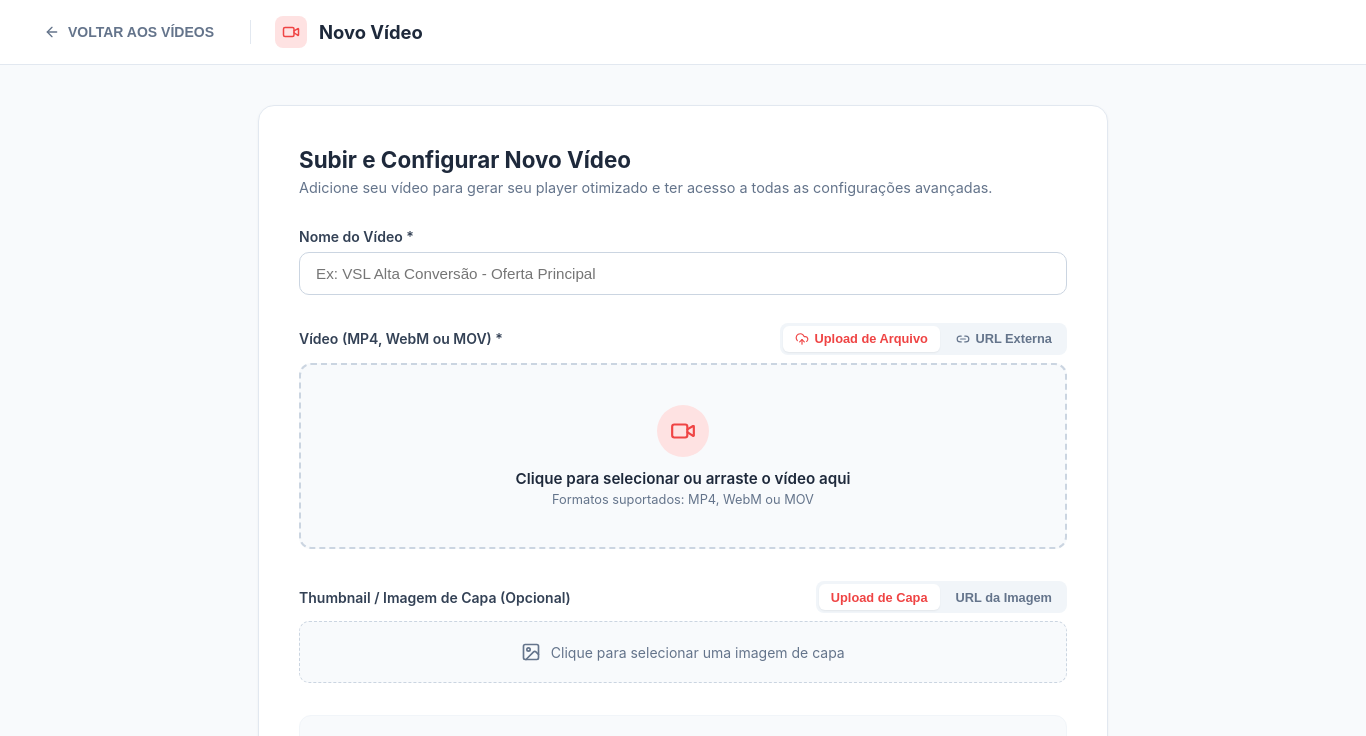
Test: VideoCreateView - Tela Cheia de Criação e Upload de Vídeo › permite alternar entre modo Upload e modo URL externa
Expected: the element with test id "create-video-dropzone" is shown, [299, 363, 1067, 549]
# Alterna para URL externa
Click the button with test id "create-video-mode-url" at (1004, 339), box [944, 326, 1064, 352]
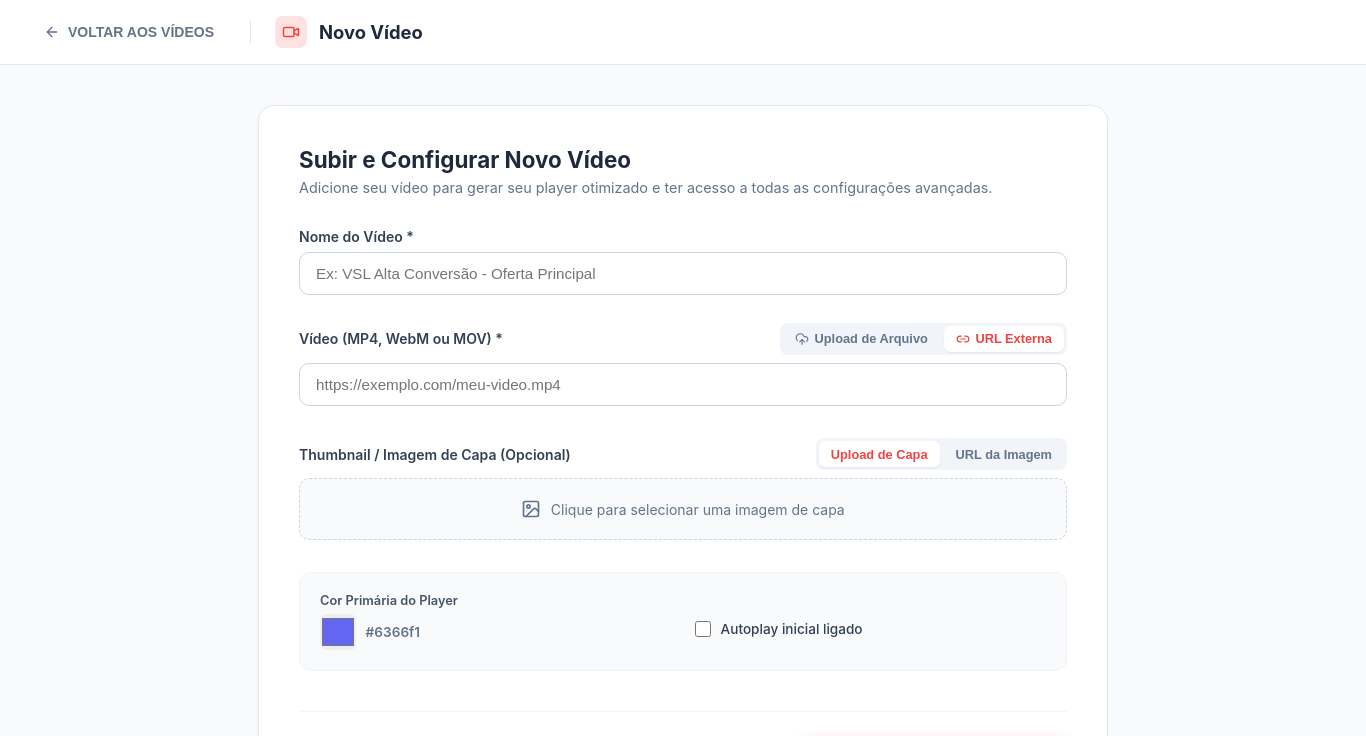
Expected: the field with test id "create-video-url-input" is shown, [299, 363, 1067, 406]
Expected: the element with test id "create-video-dropzone" is gone
# Alterna de volta para Upload
Click the button with test id "create-video-mode-upload" at (861, 339), box [783, 326, 940, 352]
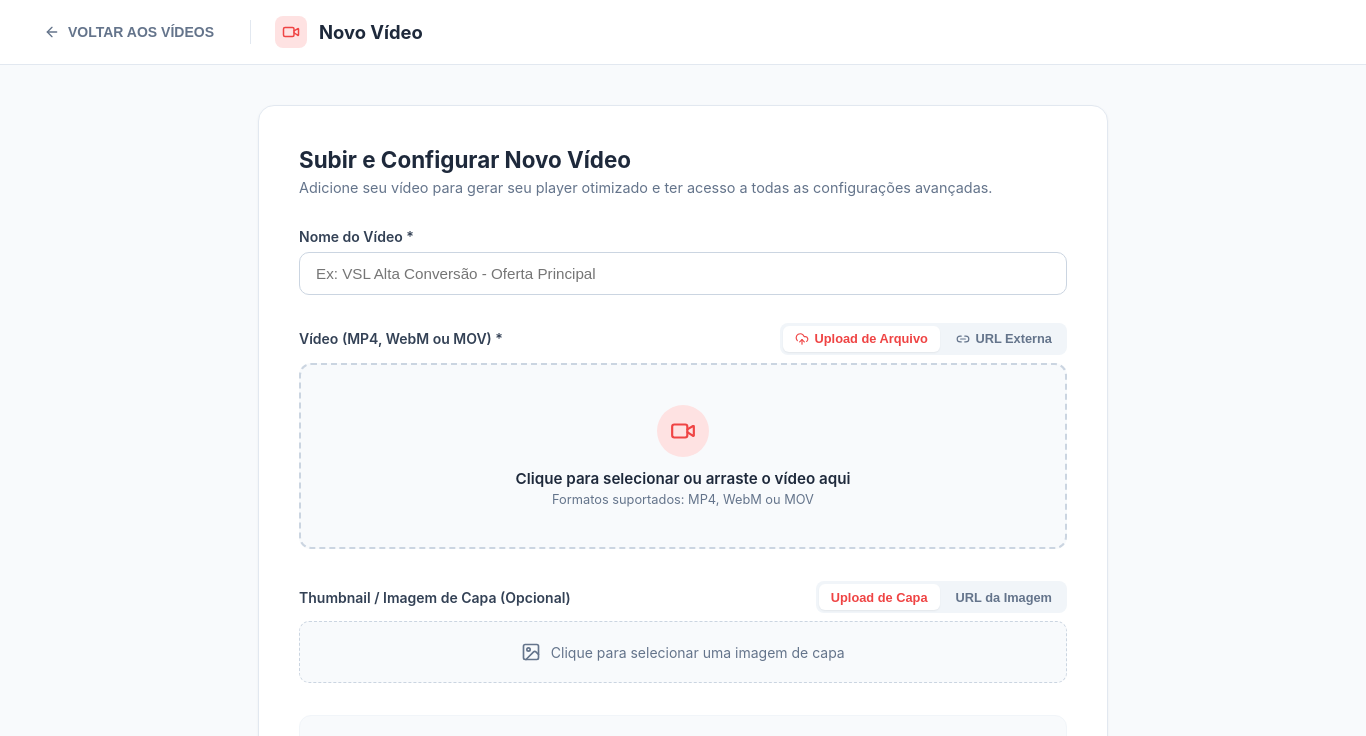
Expected: the element with test id "create-video-dropzone" is shown, [299, 363, 1067, 549]
